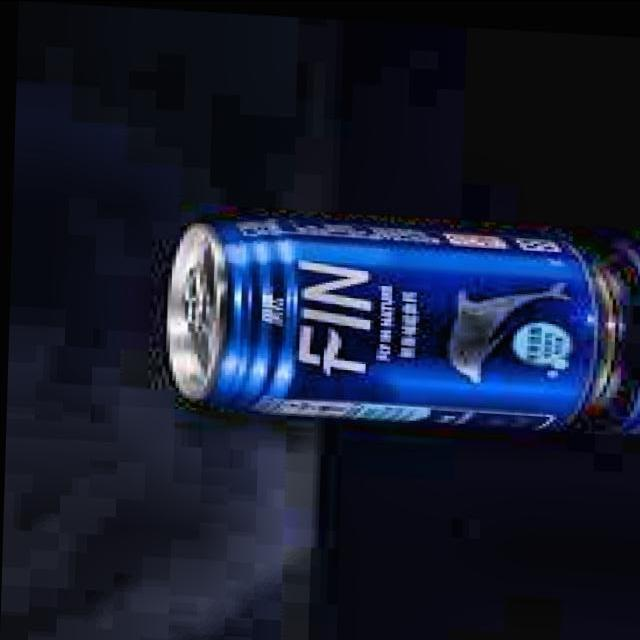litter: (149, 204, 640, 437)
